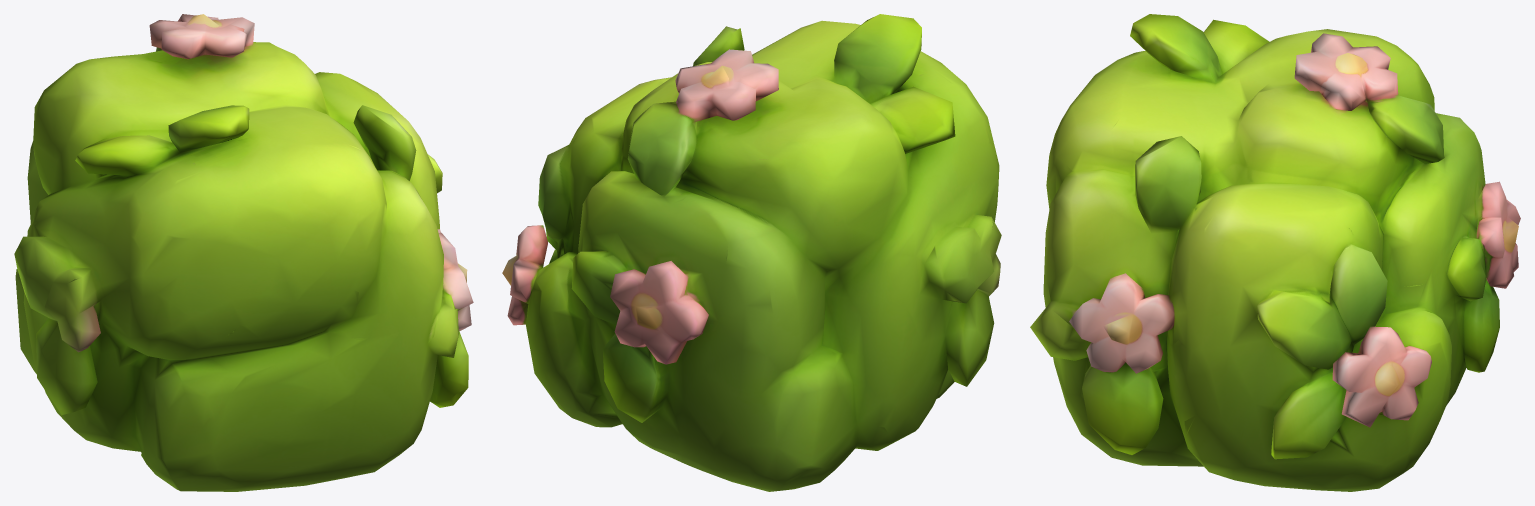
File: Kit_M_BushA_raw.glb
3 renders of one model, left to right at view 1: azimuth 30°, elevation 25°; view 2: azimuth 150°, elevation 25°; view 3: azimuth 270°, elevation 25°, orthographic.
Parts seen in each view (by area): view 1: tripo_node_dd39d6fe-4040-4d71-a063-6e01698a54d4; view 2: tripo_node_dd39d6fe-4040-4d71-a063-6e01698a54d4; view 3: tripo_node_dd39d6fe-4040-4d71-a063-6e01698a54d4.
Part boxes in pixels (box(x1,y1,x2,y2)): tripo_node_dd39d6fe-4040-4d71-a063-6e01698a54d4: box(14, 14, 473, 491); tripo_node_dd39d6fe-4040-4d71-a063-6e01698a54d4: box(502, 14, 1001, 491); tripo_node_dd39d6fe-4040-4d71-a063-6e01698a54d4: box(1030, 14, 1520, 491).
Bounding box in the file's own units: 0.9885 × 0.8651 × 1.
1 material, 1 textured.
